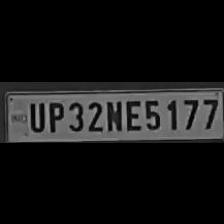1: (164, 96, 181, 130)
2: (84, 97, 104, 132)
3: (64, 98, 84, 132)
5: (142, 96, 162, 130)
7: (178, 96, 198, 130), (198, 95, 218, 129)
E: (123, 96, 141, 132)
N: (104, 96, 122, 132)
P: (46, 97, 64, 132)
U: (26, 97, 44, 132)
